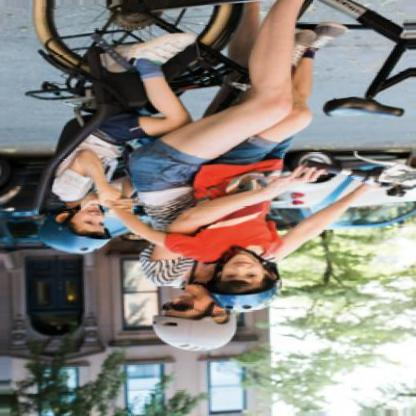with helmet: (151, 283, 238, 352), (209, 250, 278, 312), (39, 203, 115, 254)
